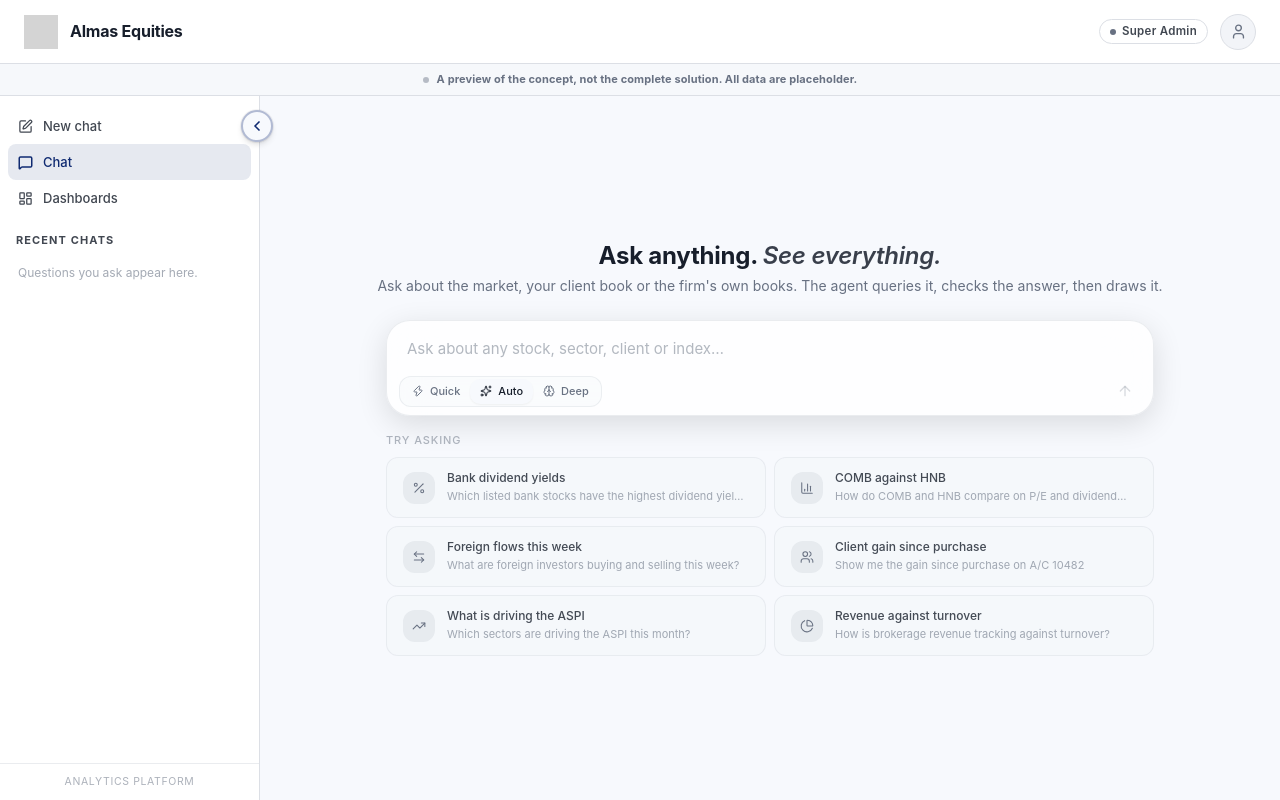
Scenario: chat › deep mode runs more steps and returns a different answer than auto
The image size is (1280, 800).
Click the radio button labelled "Deep". click: (566, 391)
box: [533,379,599,404]
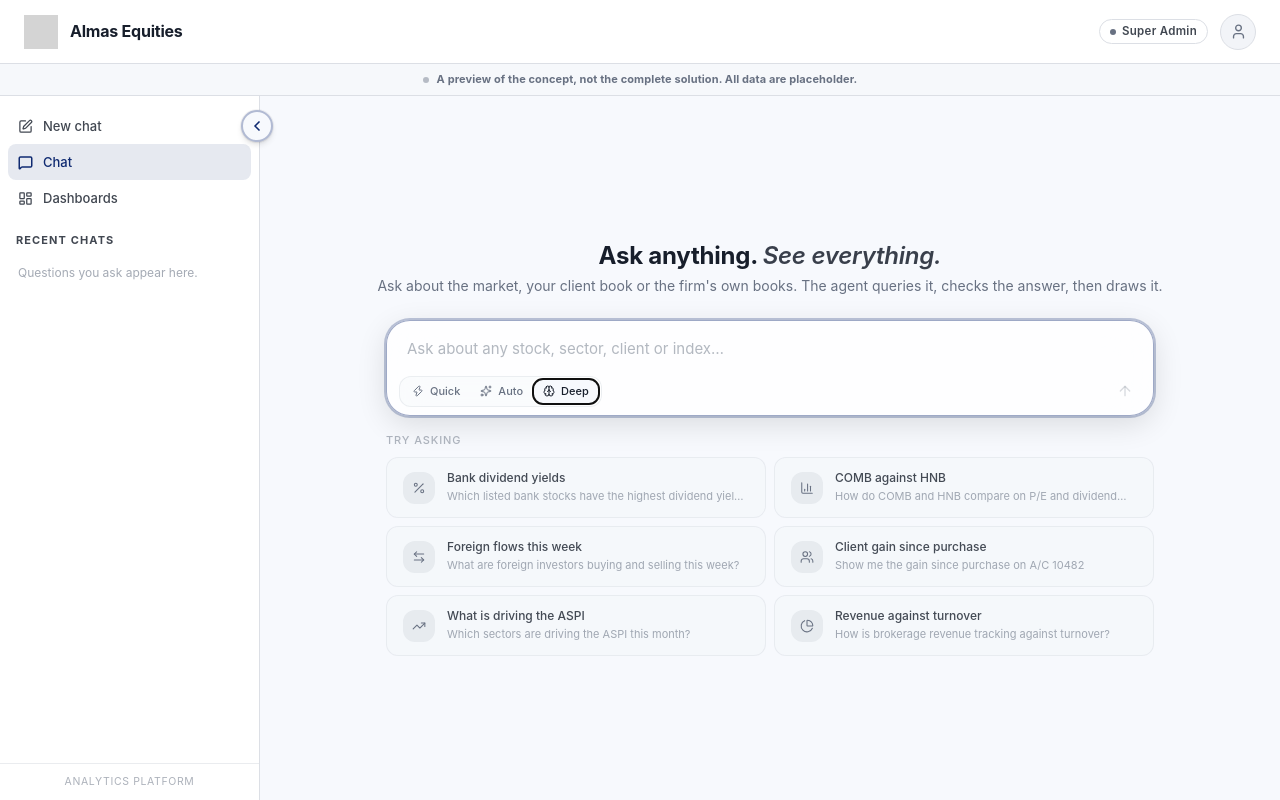
Click the button "highest dividend yield". click: (576, 488)
box: [386,457,766,518]
Wait 16200 ms
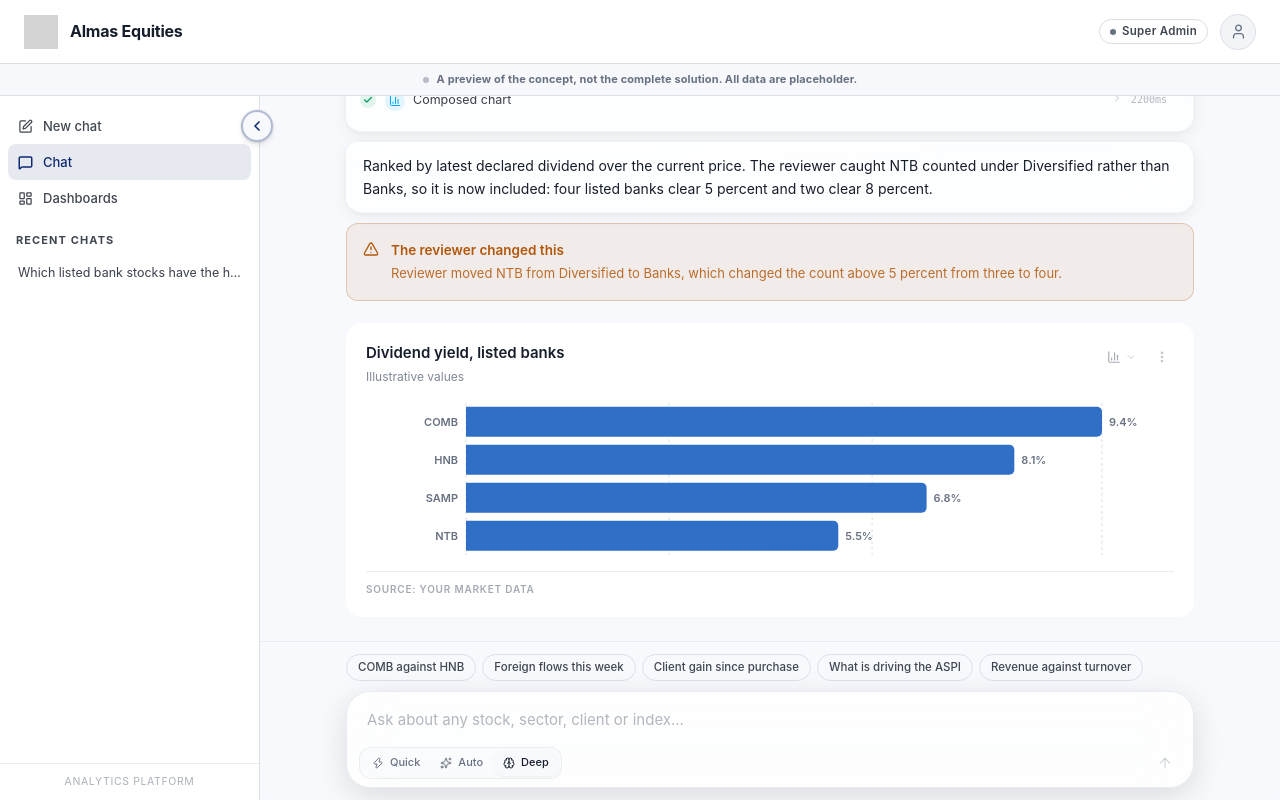
Expected: the text "Reviewer moved NTB from Diversified to Banks" is shown, [391,265,1062,281]
